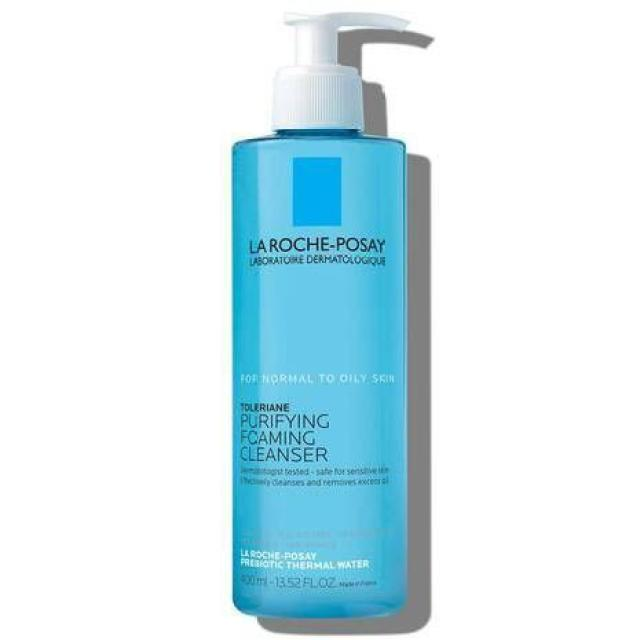cosmotic: (229, 148, 409, 607)
